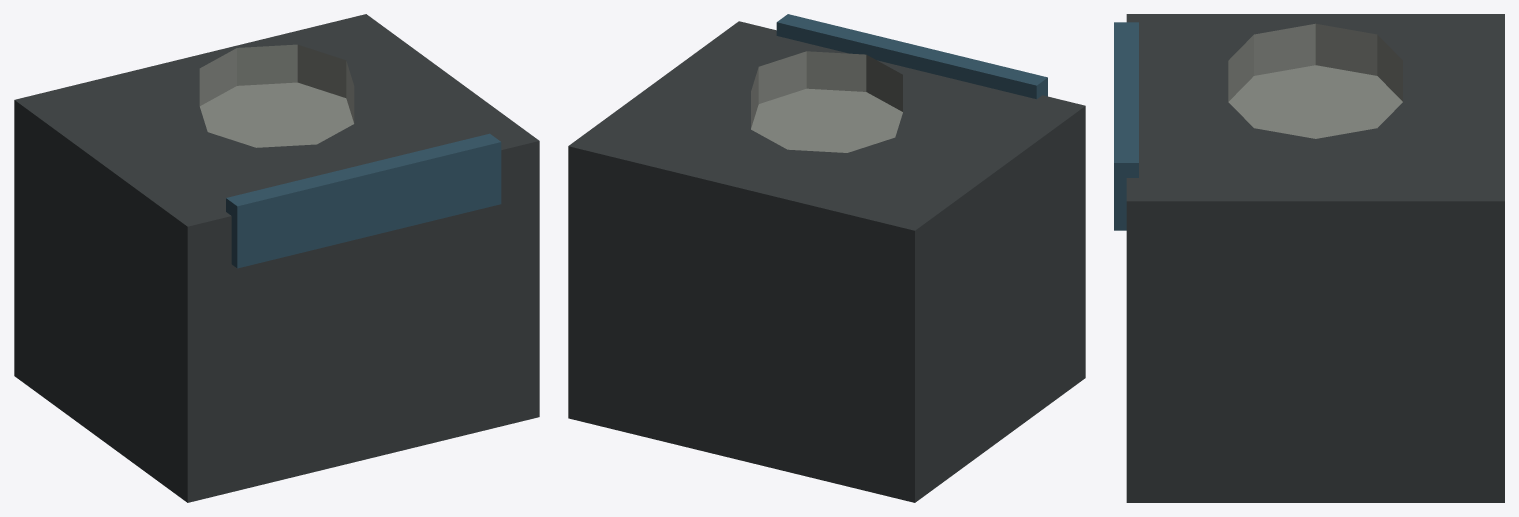
Rendered from pitta_warmer.glb.
The picture shows the model from 3 angles, left to right: view 1: azimuth 30°, elevation 25°; view 2: azimuth 150°, elevation 25°; view 3: azimuth 270°, elevation 25°; orthographic projection. The views are drawn at different scales.
Visible parts, largest first — view 1: body; view 2: body; view 3: body.
Part boxes in pixels (x1,y1,x2,y2): body: (14, 14, 539, 502); body: (568, 14, 1085, 502); body: (1114, 14, 1504, 502).
Size of the model in its own units: 0.32 by 0.2775 by 0.282.
1 material, 1 textured.
